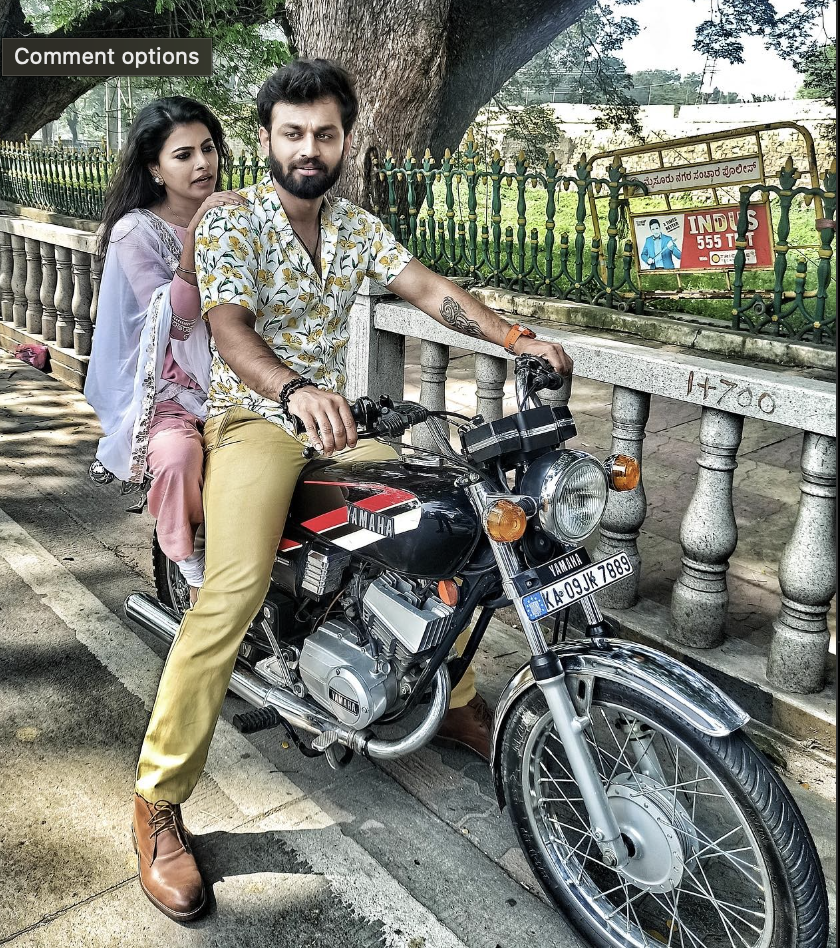motor: (87, 336, 836, 945)
no helmet: (259, 58, 349, 193), (129, 94, 226, 199)
number: (513, 558, 631, 620)
